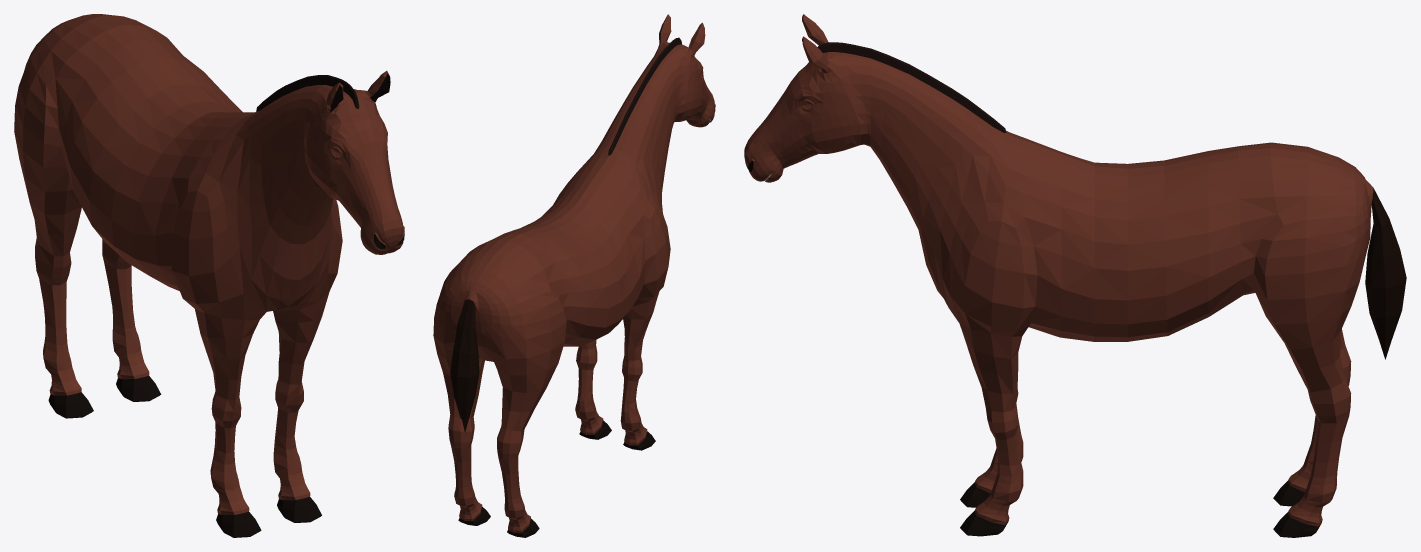
The model's file is horse_horse.obj.
3 renders of one model, left to right at view 1: azimuth 30°, elevation 25°; view 2: azimuth 150°, elevation 25°; view 3: azimuth 270°, elevation 25°, orthographic. The views are drawn at different scales.
Size of the model in its own units: 0.7053 by 2.07 by 2.54.
